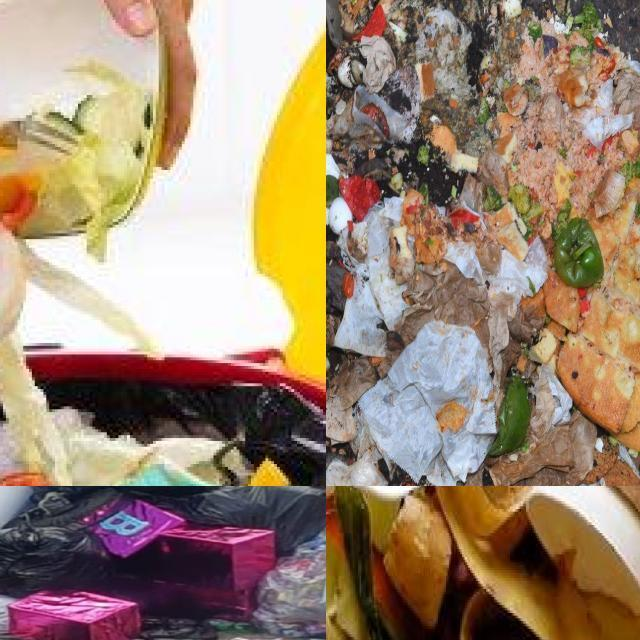Disposable: (528, 486, 640, 616)
Garbage: (326, 0, 640, 486), (0, 486, 326, 640), (326, 486, 640, 640), (0, 410, 225, 486)
Plastic_Bag: (110, 525, 276, 619), (178, 486, 326, 554), (0, 525, 110, 597), (253, 538, 326, 637), (9, 591, 139, 640), (0, 486, 33, 529), (100, 511, 149, 535), (131, 486, 206, 497), (0, 596, 17, 634)
